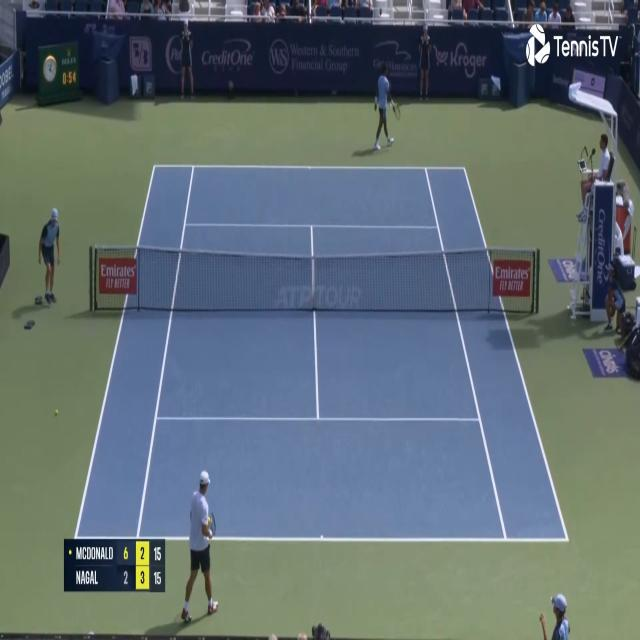tennis-player: (179, 466, 220, 628), (371, 62, 400, 152)
